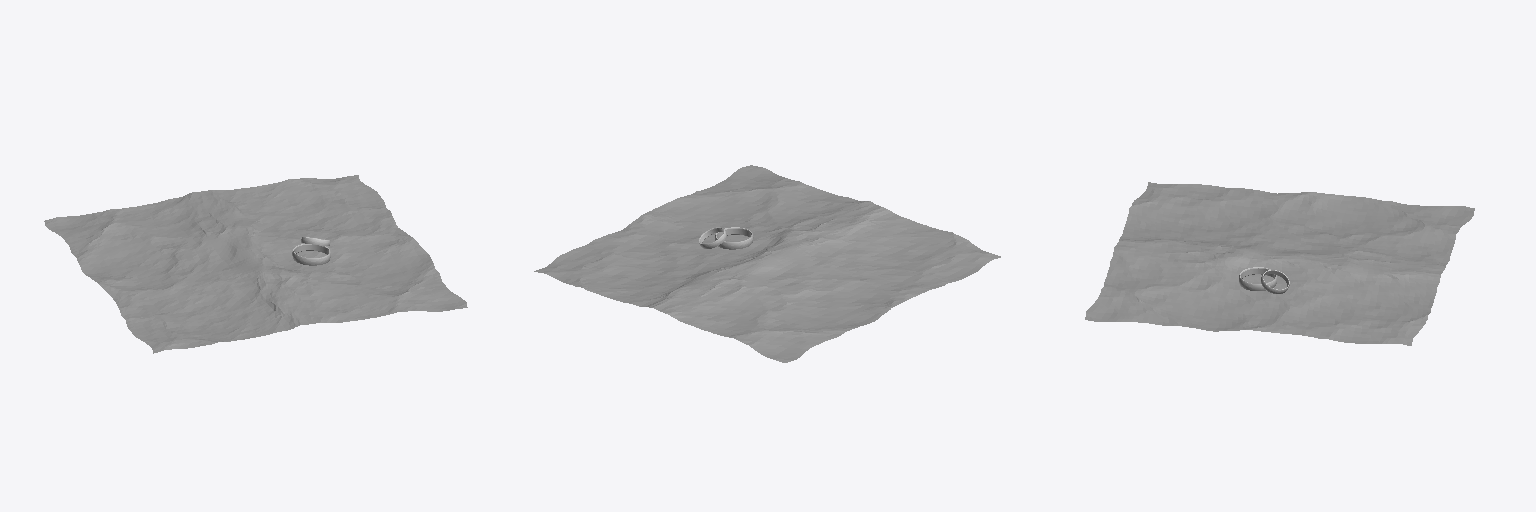
Rendered from gold_rings_bark.obj.
3 views of the same model, side by side, from view 1: azimuth 30°, elevation 25°; view 2: azimuth 150°, elevation 25°; view 3: azimuth 270°, elevation 25° (orthographic).
Visible parts, largest first — view 1: Plane.001_Plane.003, Circle; view 2: Plane.001_Plane.003; view 3: Plane.001_Plane.003.
Boxes of the visible parts, x1,y1,x2,y2 form: Plane.001_Plane.003: [44, 175, 467, 353]; Circle: [292, 244, 330, 265]; Plane.001_Plane.003: [534, 165, 1000, 362]; Plane.001_Plane.003: [1085, 182, 1474, 345].
Bounding box in the file's own units: 13.98 × 0.7803 × 13.98.